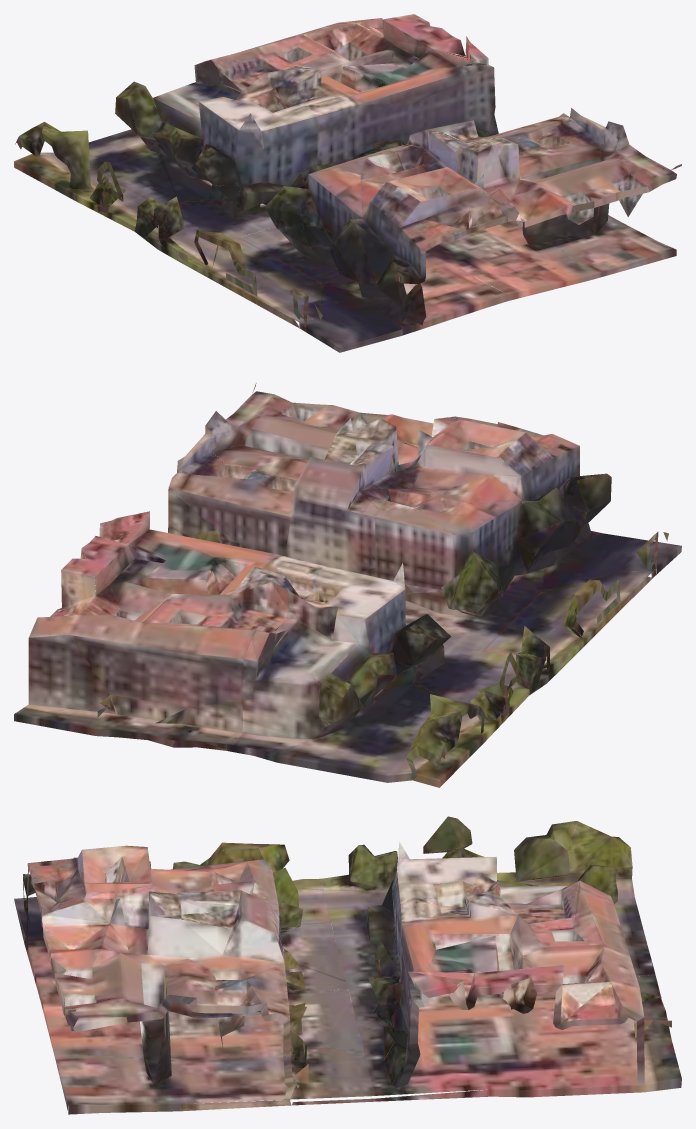
3 renders of one model, top to bottom at view 1: azimuth 30°, elevation 25°; view 2: azimuth 150°, elevation 25°; view 3: azimuth 270°, elevation 25°, orthographic. The views are drawn at different scales.
Parts seen in each view (by area): view 1: Mesh_0; view 2: Mesh_0; view 3: Mesh_0.
Part boxes in pixels (box(x1,y1,x2,y2)): Mesh_0: box(14, 14, 681, 352); Mesh_0: box(14, 383, 681, 787); Mesh_0: box(14, 816, 681, 1114).
Size of the model in its own units: 135 by 39.31 by 165.
Materials: 2 (2 with a texture image).
